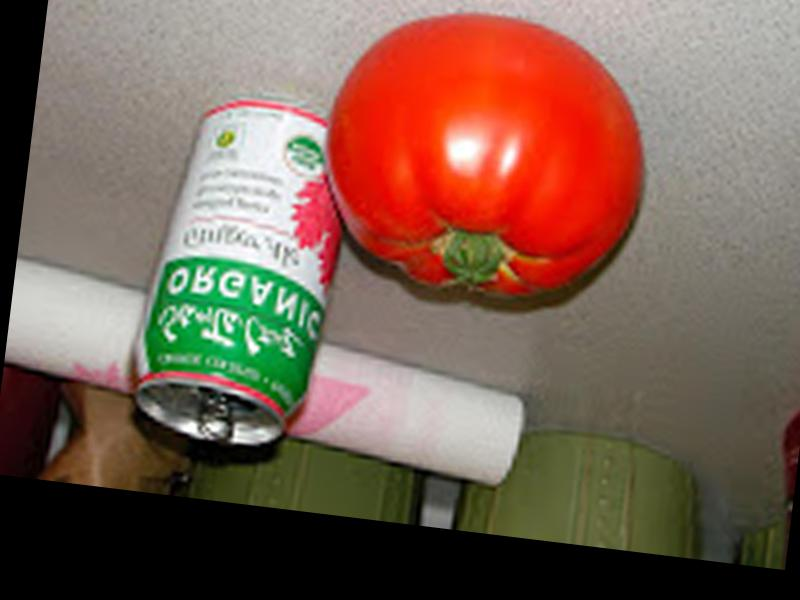Tomato: (314, 0, 656, 308)
